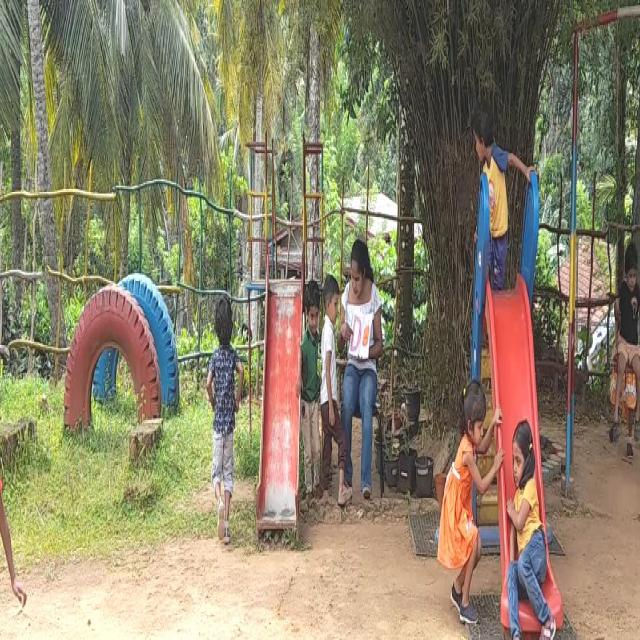adult: (338, 219, 386, 519)
child: (504, 418, 557, 640), (204, 280, 241, 527), (449, 368, 486, 594), (300, 273, 336, 498), (472, 105, 512, 302), (608, 225, 640, 451)
